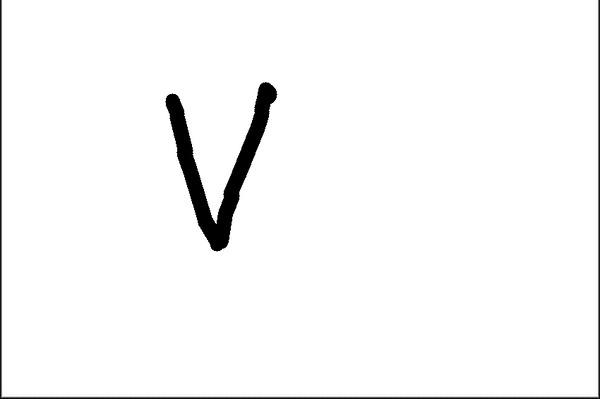V: (166, 76, 278, 256)
